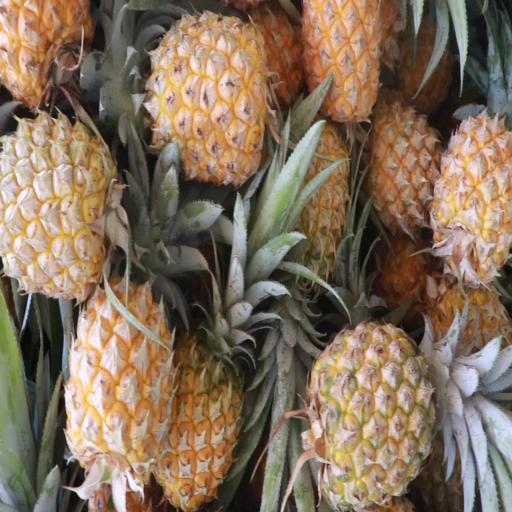------------------------------: (302, 319, 501, 509)
Pineapple - v8 v1: (52, 264, 162, 506), (146, 243, 244, 510), (126, 14, 268, 183), (249, 100, 345, 320), (0, 111, 116, 289), (423, 109, 512, 293), (358, 98, 433, 239)
